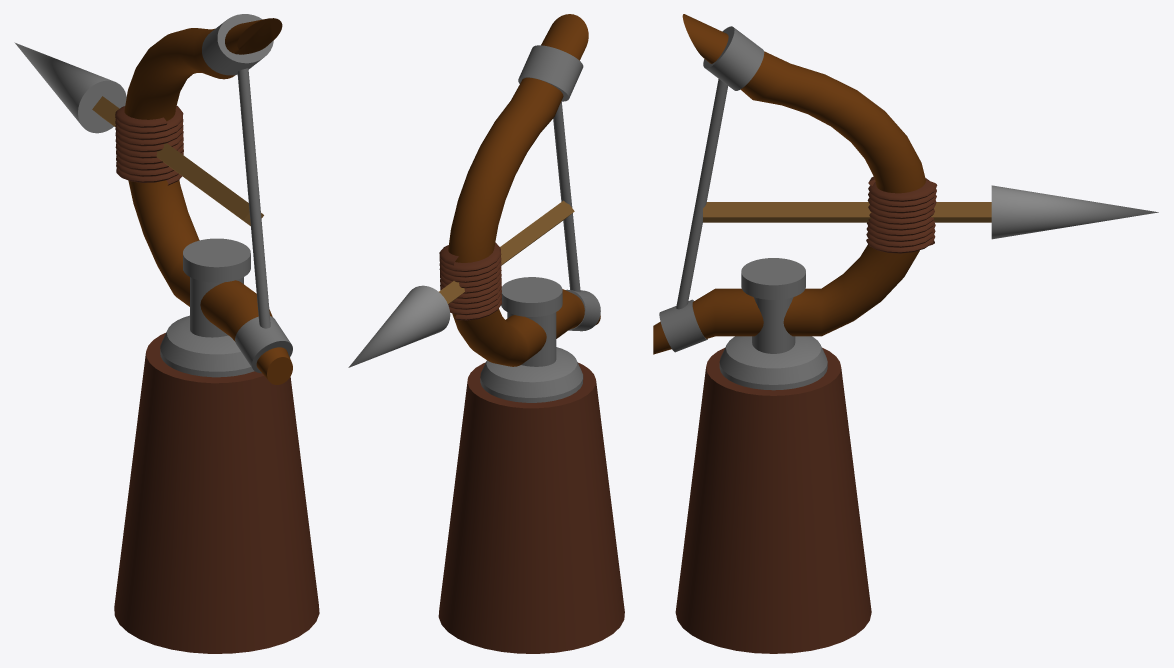
File: torre1_1.fbx
The picture shows the model from 3 angles, left to right: view 1: azimuth 30°, elevation 25°; view 2: azimuth 150°, elevation 25°; view 3: azimuth 270°, elevation 25°; orthographic projection. The views are drawn at different scales.
Visible parts, largest first — view 1: Cylinder.007; view 2: Cylinder.007; view 3: Cylinder.007.
Boxes of the visible parts, box(x1,y1,x2,y2) form: Cylinder.007: box(14, 14, 319, 653); Cylinder.007: box(348, 14, 624, 653); Cylinder.007: box(653, 14, 1158, 653).
Size of the model in its own units: 362 by 1217 by 936.
